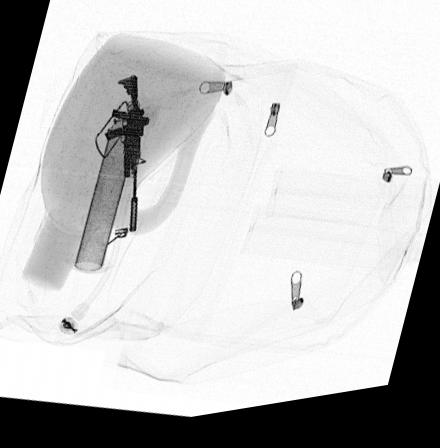Gun: (104, 79, 151, 237)
